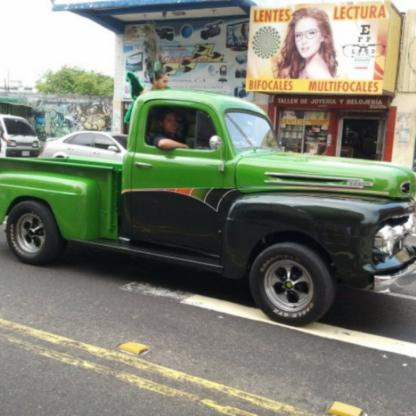Car: (41, 130, 127, 163)
Truck: (0, 89, 415, 327)
